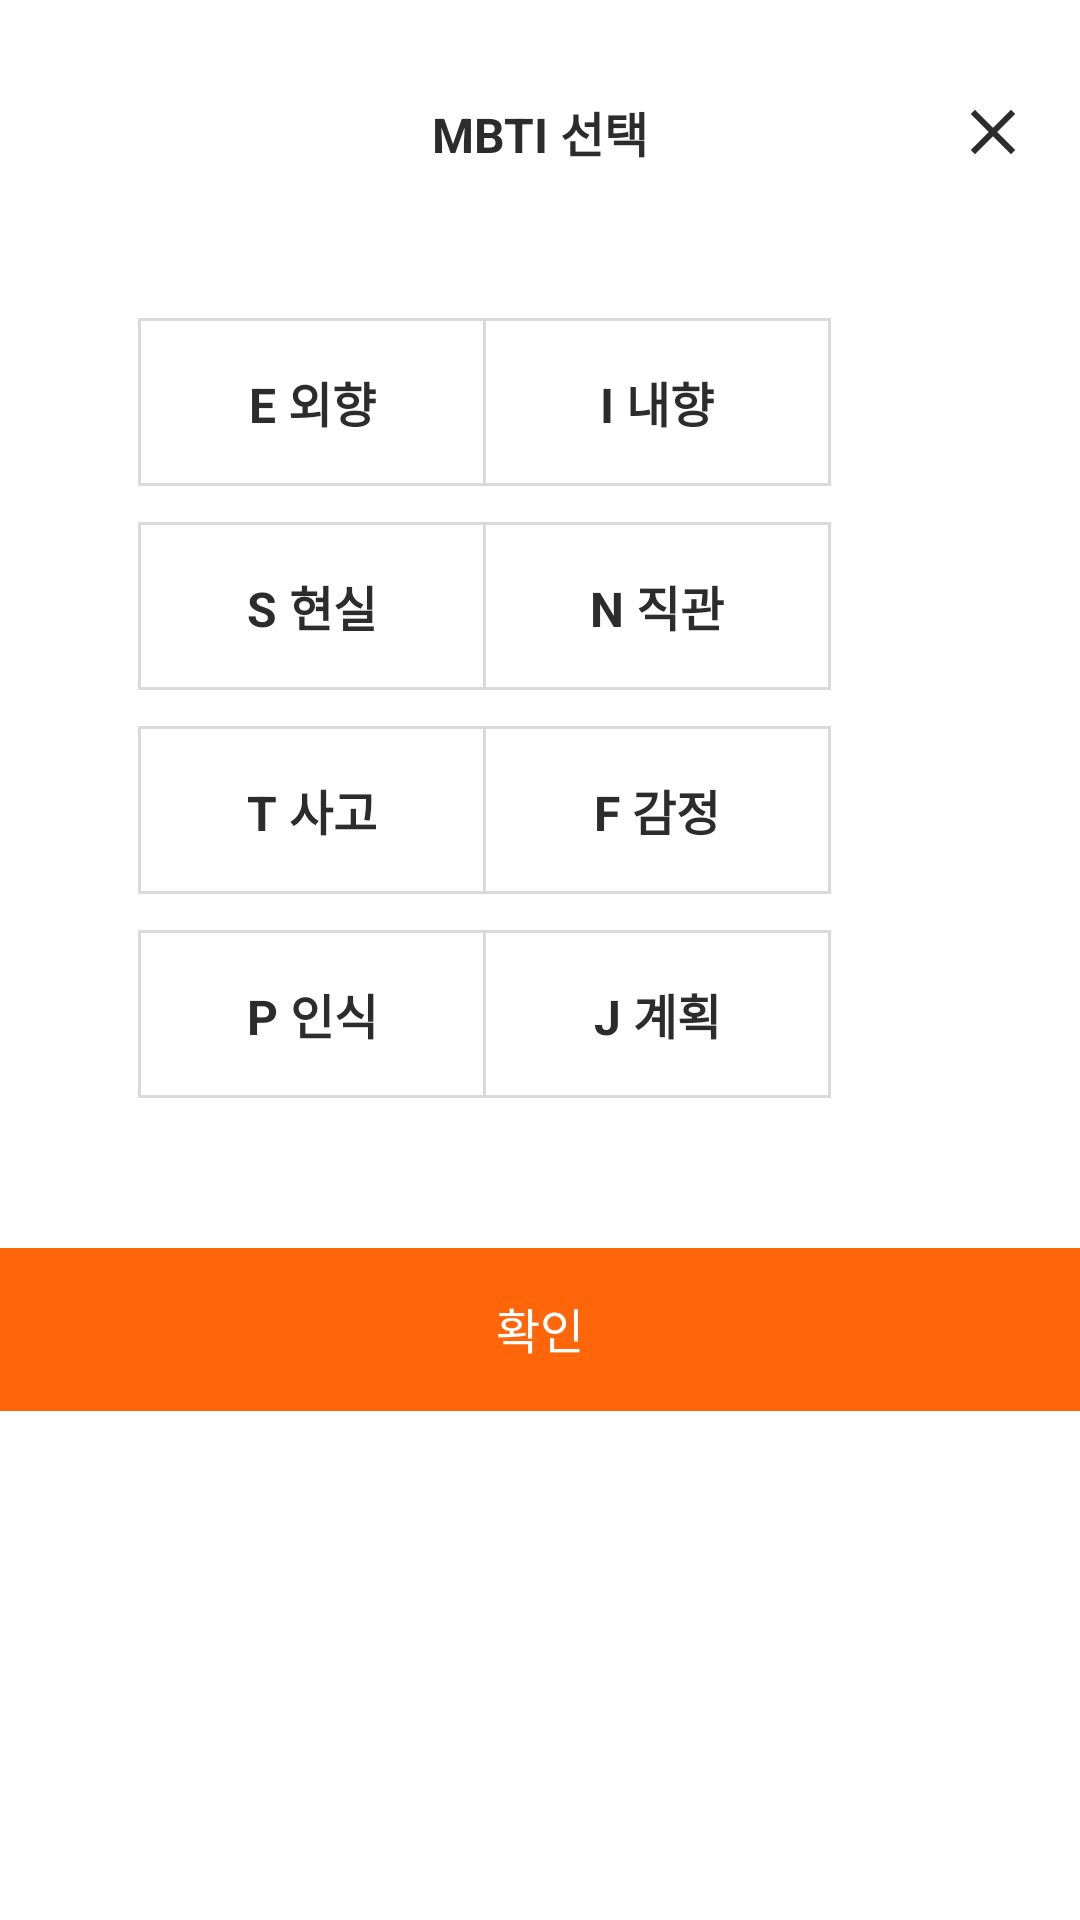

Named icons in this screenshot (1080×1920) and their centers, (x=x, y=y):
close: (x=993, y=132)
